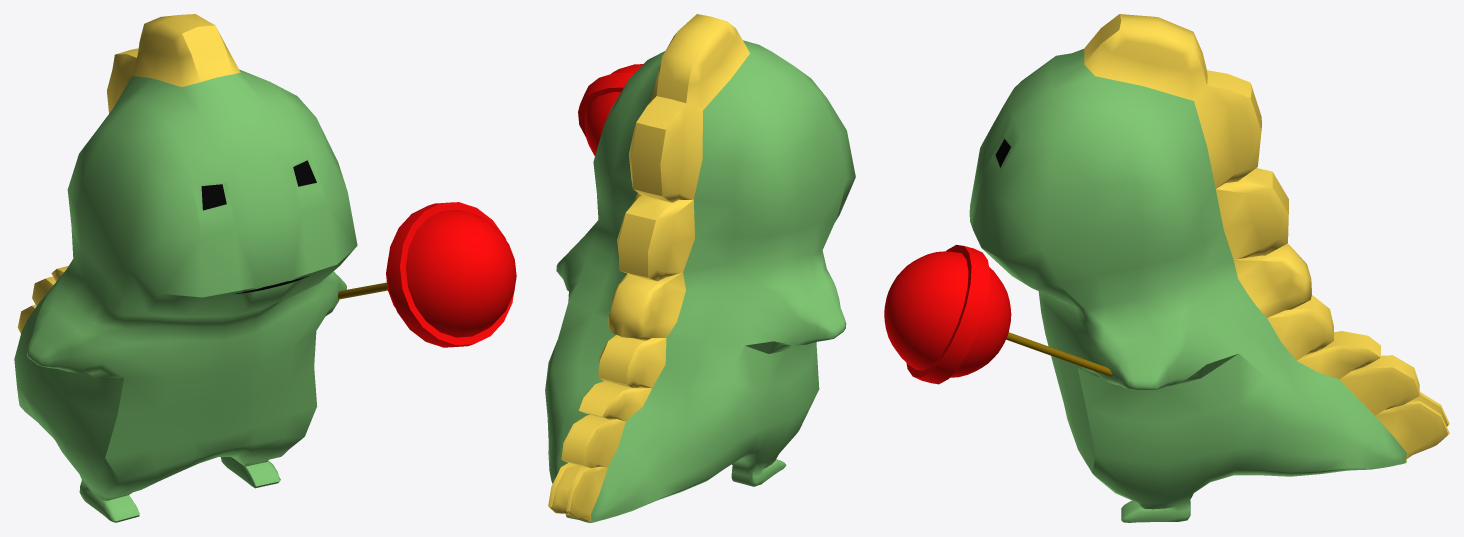
File: Shawn_withCandy_Medium.fbx
3 views of the same model, side by side, from view 1: azimuth 30°, elevation 25°; view 2: azimuth 150°, elevation 25°; view 3: azimuth 270°, elevation 25° (orthographic). The views are drawn at different scales.
Parts seen in each view (by area): view 1: lollipop:pCylinder2.001; view 2: lollipop:pCylinder2.001; view 3: lollipop:pCylinder2.001.
Part boxes in pixels (bbox=[...]): lollipop:pCylinder2.001: bbox=[14, 14, 516, 522]; lollipop:pCylinder2.001: bbox=[545, 14, 855, 522]; lollipop:pCylinder2.001: bbox=[884, 14, 1449, 522].
Size of the model in its own units: 0.4152 by 0.4959 by 0.5478.
